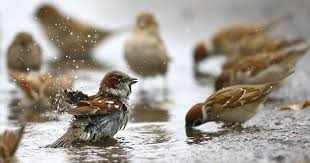hsparrow: (57, 69, 141, 163), (169, 81, 283, 139)
